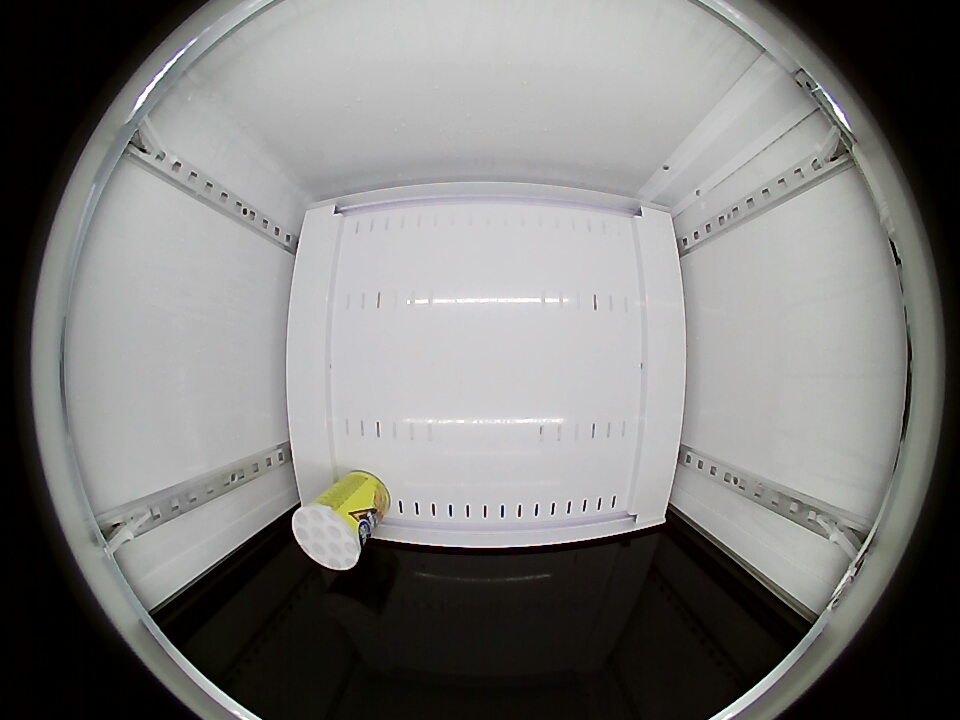kebike: (292, 497, 370, 571)
